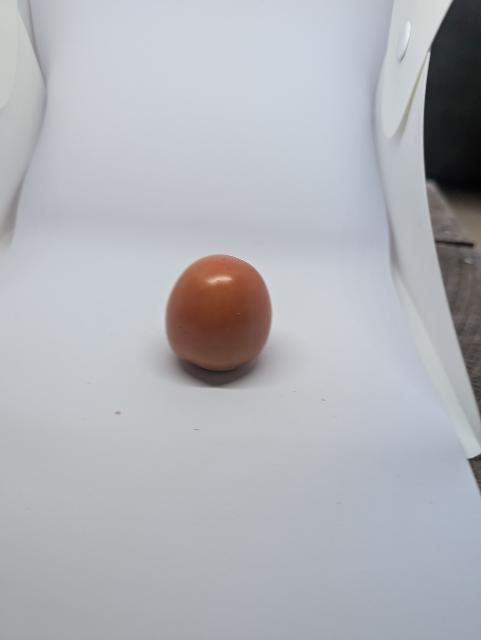red: (157, 240, 289, 390)
